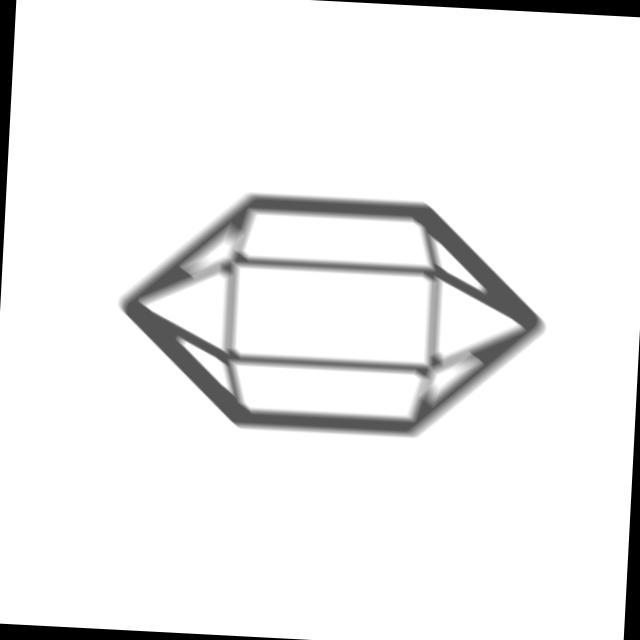crystal: (108, 176, 559, 457)
